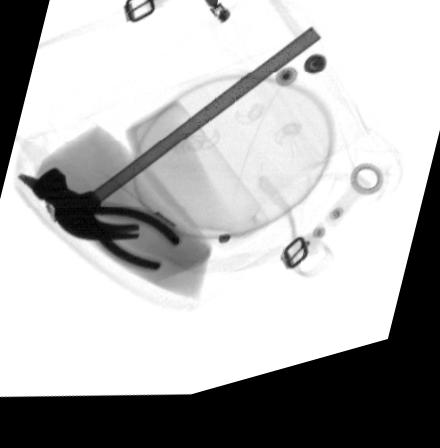Hammer: (30, 43, 321, 244)
Pliers: (15, 173, 180, 279)
